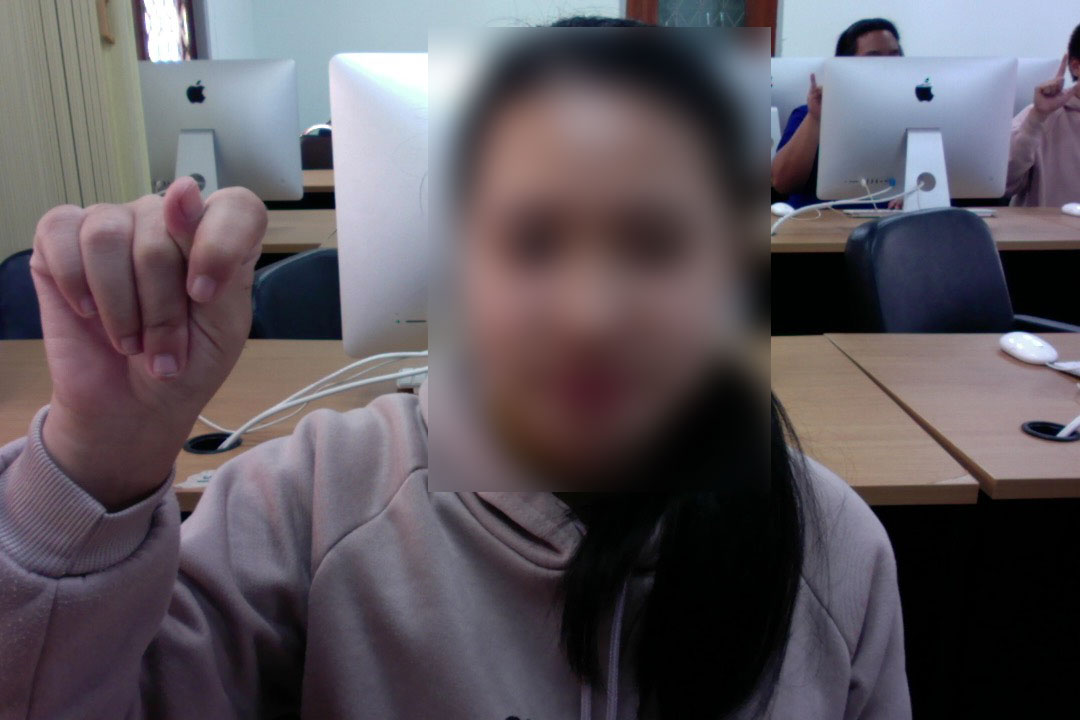tor: (24, 176, 275, 454)
